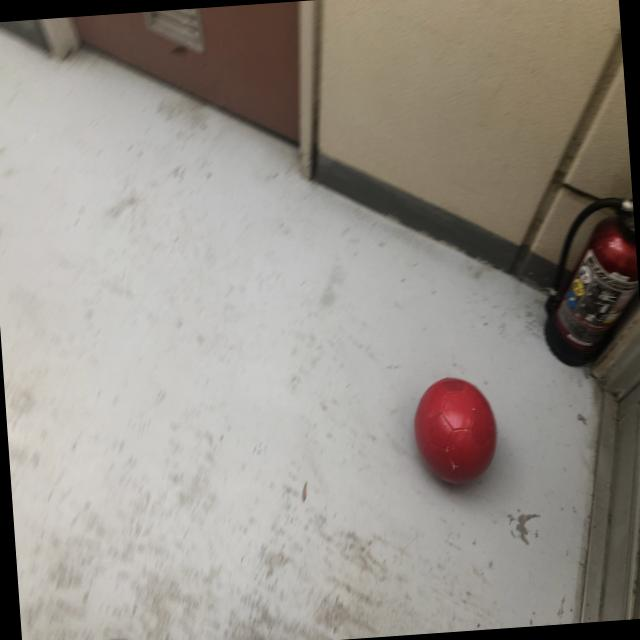red_ball: (412, 375, 500, 487)
